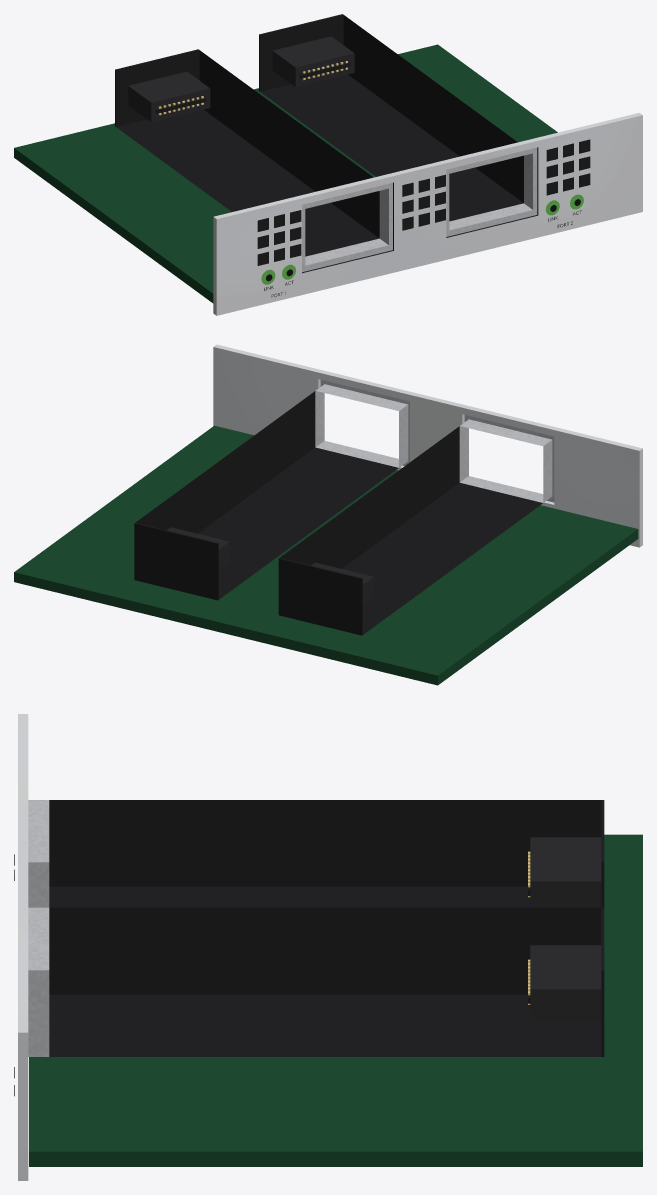
The model's file is 540-BFLP.glb.
3 views of the same model, one above another, from view 1: azimuth 30°, elevation 25°; view 2: azimuth 150°, elevation 25°; view 3: azimuth 270°, elevation 25° (orthographic). The views are drawn at different scales.
Visible parts, largest first — view 1: Card; view 2: Card; view 3: Card.
Part boxes in pixels (<box>): Card: <box>14,14,642,315</box>; Card: <box>14,344,642,685</box>; Card: <box>18,714,642,1180</box>.
Bounding box in the file's own units: 0.0724 × 0.0157 × 0.0604.
9 materials, 2 textured.
